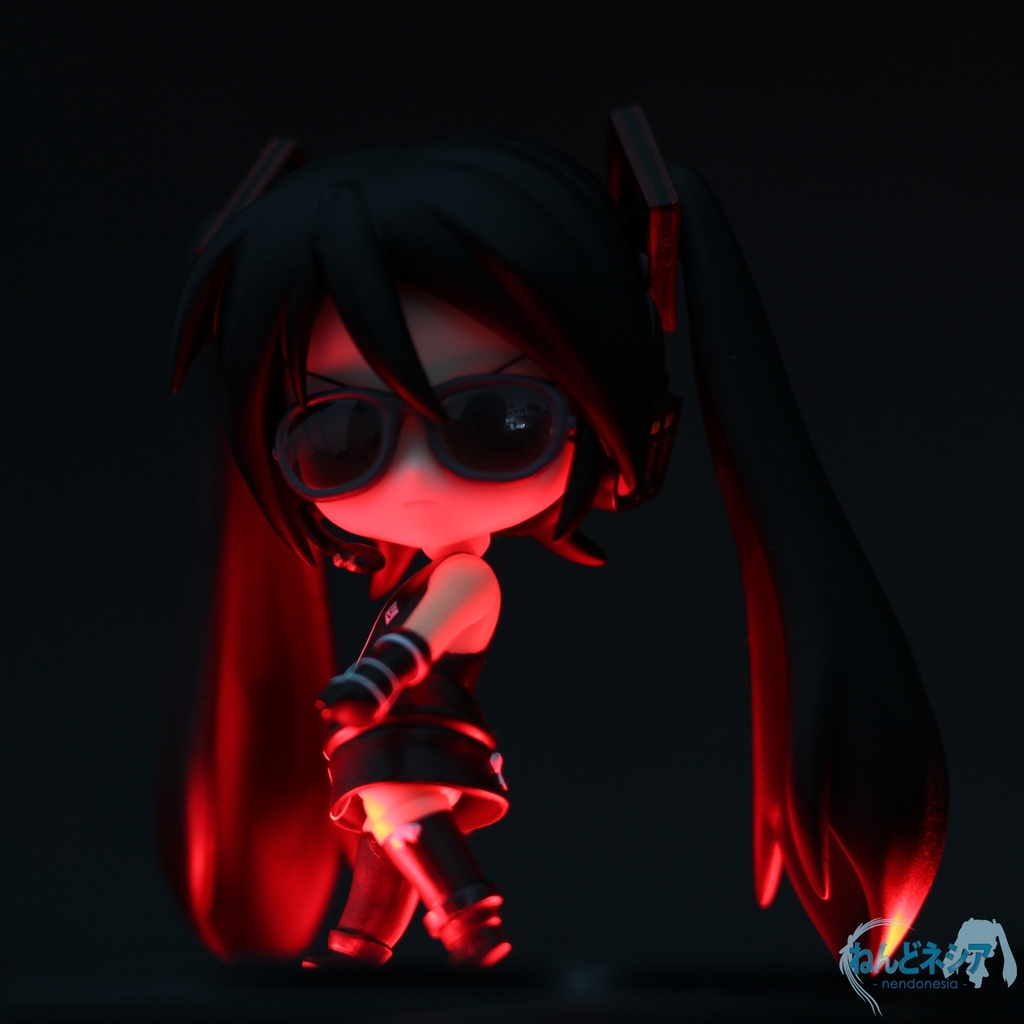Person: (164, 129, 691, 987)
